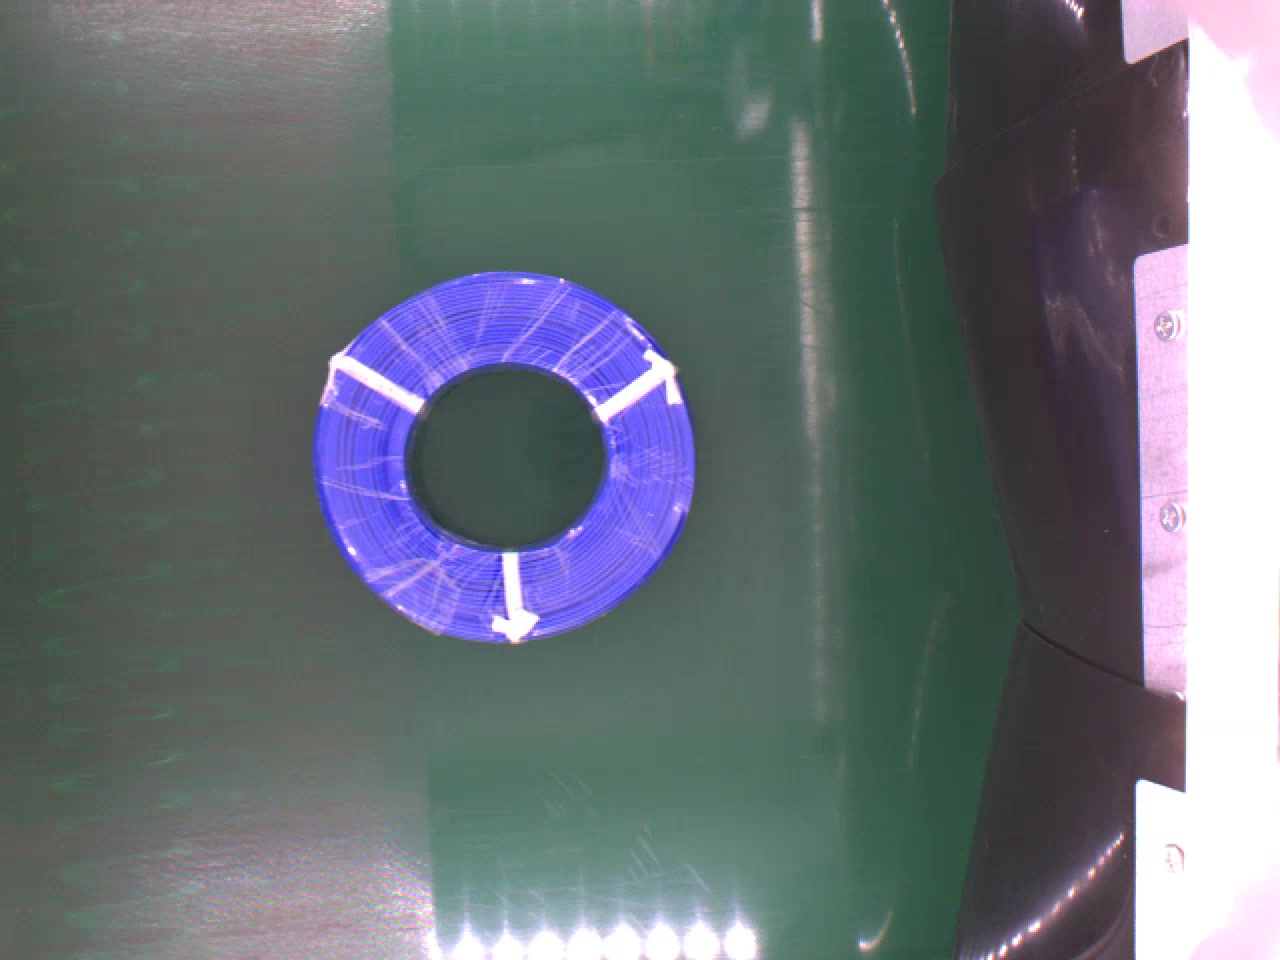blue: (311, 264, 700, 645)
